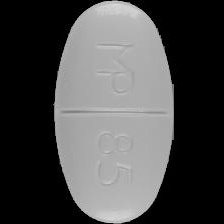61919-210: (0, 0, 224, 224)
